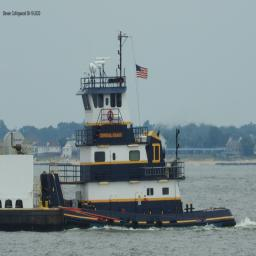tugboat: (20, 26, 241, 237)
